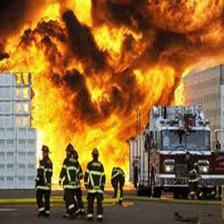fire: (1, 1, 221, 71), (38, 49, 181, 105), (45, 75, 129, 143)
